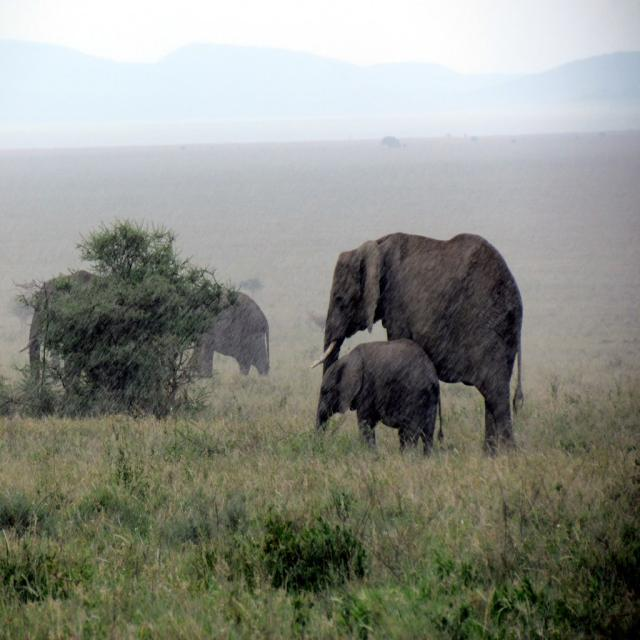Elephant: (312, 231, 524, 457), (315, 338, 443, 458), (188, 288, 270, 379)
